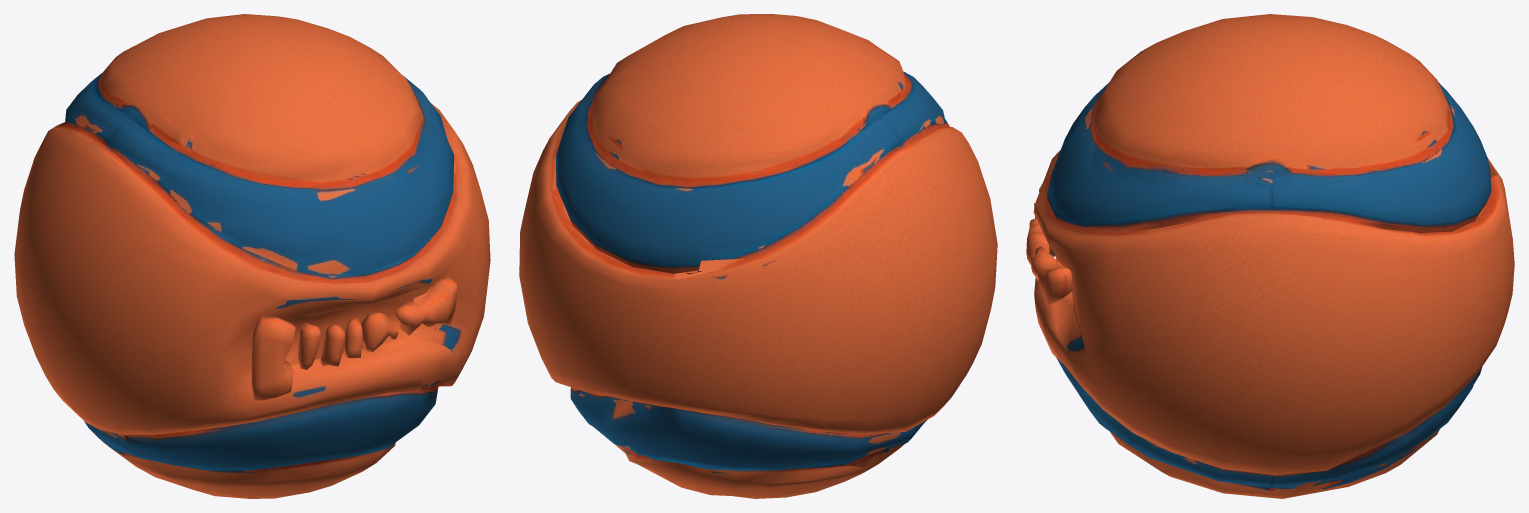
The model's file is toyball-930.glb.
The picture shows the model from 3 angles, left to right: view 1: azimuth 30°, elevation 25°; view 2: azimuth 150°, elevation 25°; view 3: azimuth 270°, elevation 25°; orthographic projection.
Visible parts, largest first — view 1: tripo_node_f19db1f4-9f14-4349-b8d3-474cb1225808; view 2: tripo_node_f19db1f4-9f14-4349-b8d3-474cb1225808; view 3: tripo_node_f19db1f4-9f14-4349-b8d3-474cb1225808.
Part boxes in pixels (box(x1,y1,x2,y2)): tripo_node_f19db1f4-9f14-4349-b8d3-474cb1225808: box(14, 14, 490, 498); tripo_node_f19db1f4-9f14-4349-b8d3-474cb1225808: box(519, 14, 997, 498); tripo_node_f19db1f4-9f14-4349-b8d3-474cb1225808: box(1026, 14, 1514, 498).
Size of the model in its own units: 0.0659 by 0.067 by 0.0669.
Materials: 1 (1 with a texture image).
